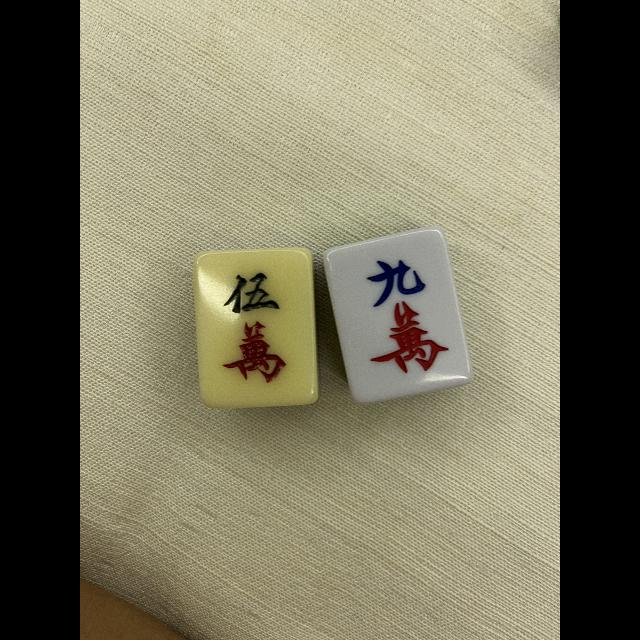c5: (198, 253, 314, 404)
c9: (339, 242, 455, 394)
